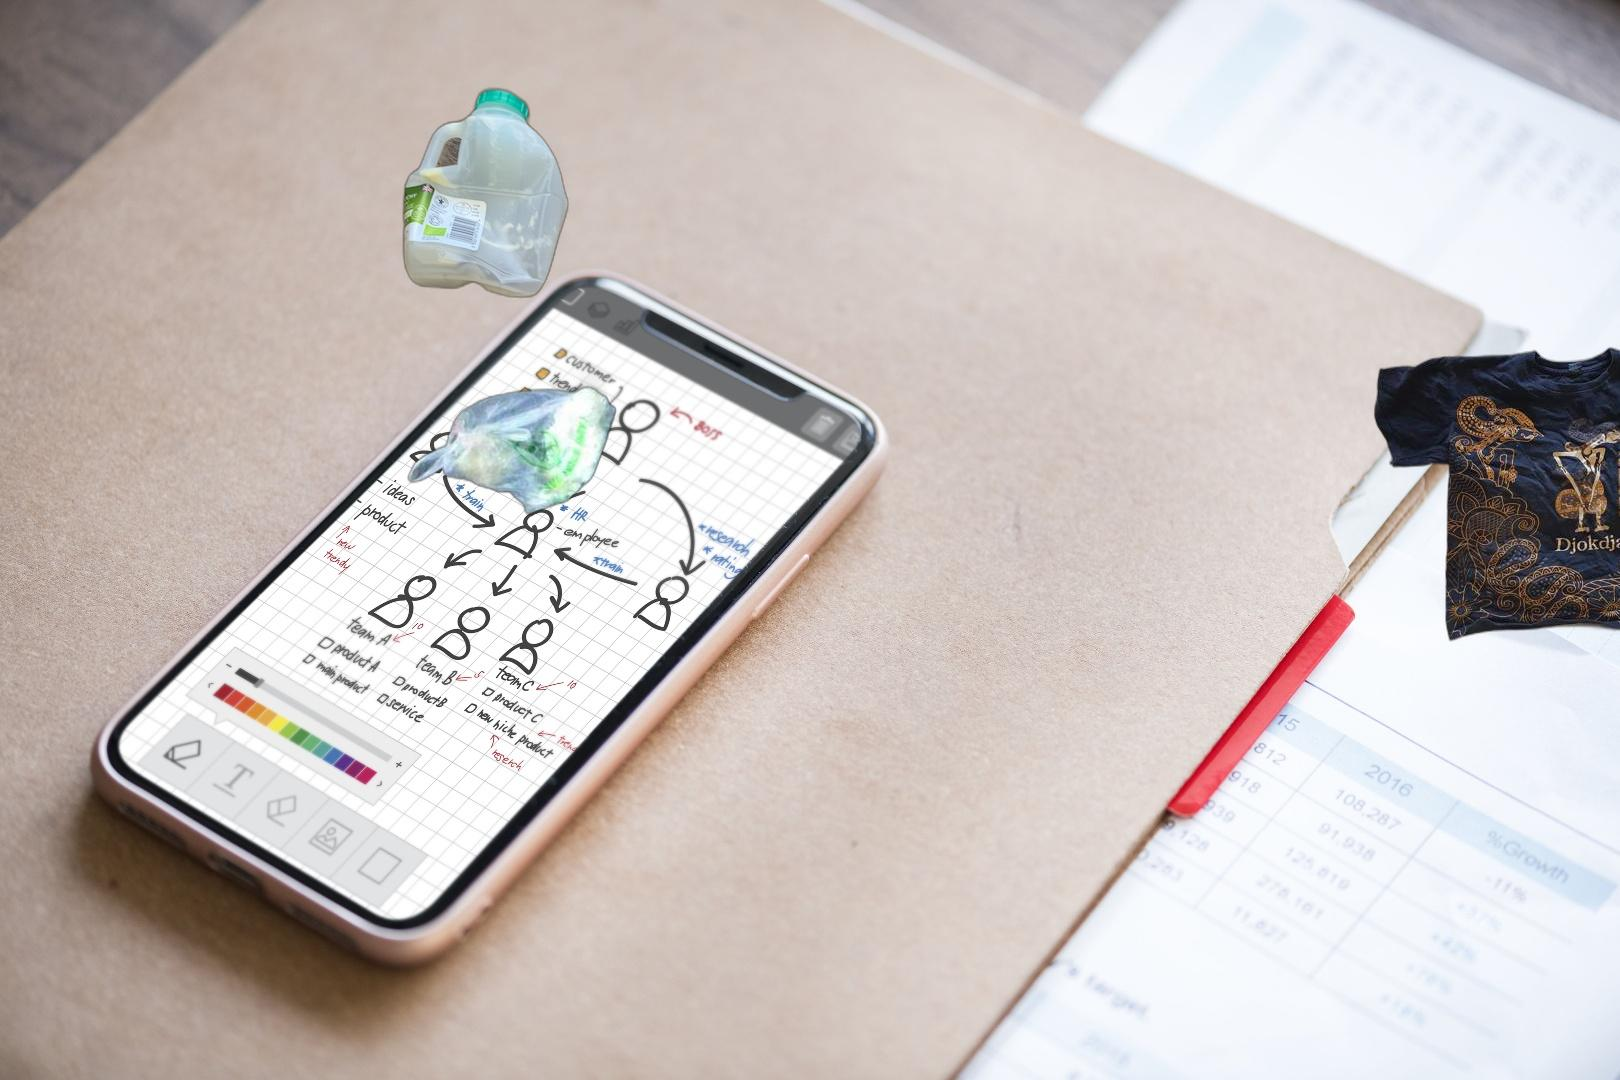biological: (405, 351, 768, 812)
clothes: (1370, 344, 1620, 645)
plastic-bottles: (398, 83, 573, 304)
